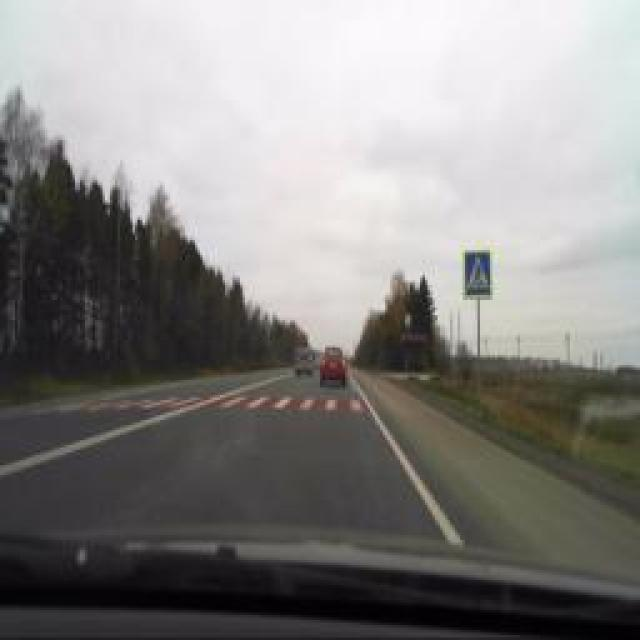sign: (464, 248, 491, 298)
